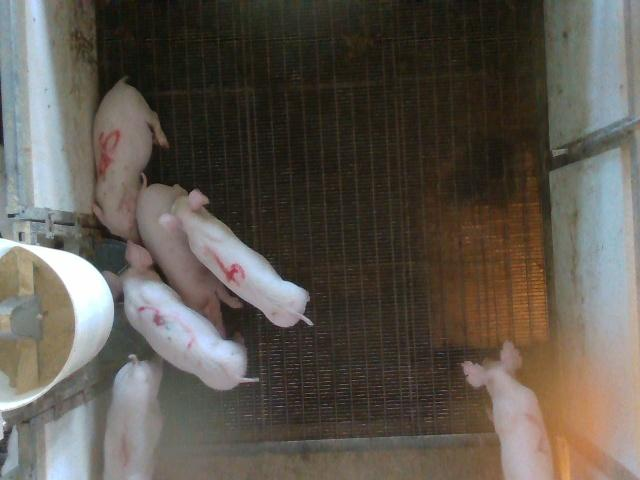pig-1: (104, 355, 162, 478)
pig-2: (463, 341, 554, 478)
pig-3: (102, 240, 250, 389)
pig-4: (161, 190, 312, 327)
pig-5: (92, 78, 169, 243)
